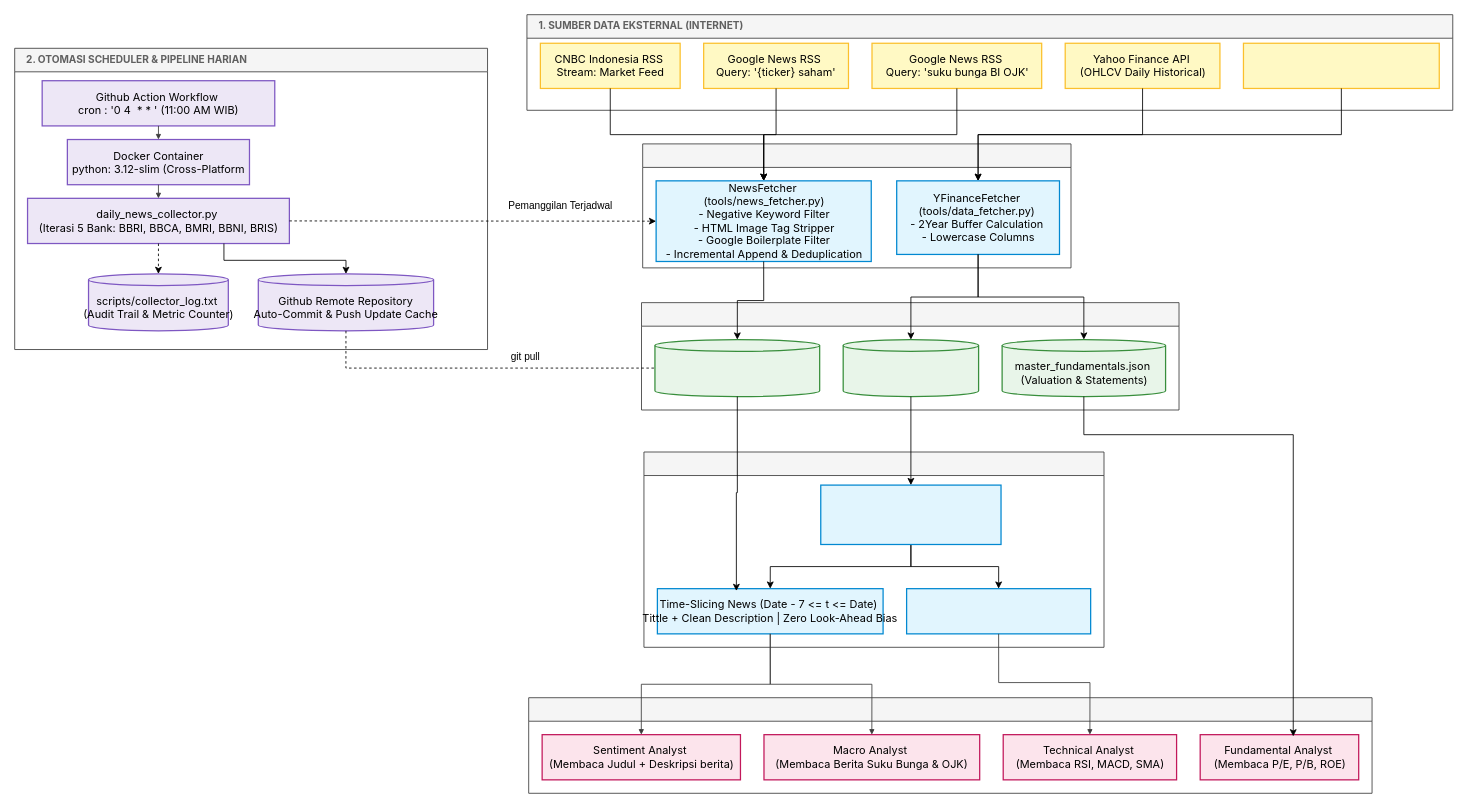
Some shapes in this 1467 by 808 pixel diagram are drawn without their labels. The shapes that lost their labels are listed below. From the top down, each one's box as (x1, y1, x2, y2) in pixels, then its label:
(1242, 42, 1440, 89): Yahoo Finance API (Info, Income Stmt, Balance Sheet)
(642, 143, 1071, 268): 3. PYTHON EXTRACTION & PRE-PROCESSING
(654, 339, 820, 397): master_news.json (Cleaned Articles Archive)
(641, 302, 1179, 410): 4. LOCAL STORAGE / CACHE (data/cache/{ticker}/)
(842, 339, 979, 397): master_ohlcv.csv (Time-Series Matrix)
(820, 484, 1001, 545): Backtester Engine (orchestration/backtester.py) Weekly Step (Friday Loop)
(643, 451, 1104, 647): 5. RUNTIME BACKTESTING / TIME-SLICING
(906, 588, 1091, 634): Time-Slicing OHLCV (t <= Date) Compute Technical Indicators
(528, 697, 1372, 793): 6. KONSUMSI AGEN AI
